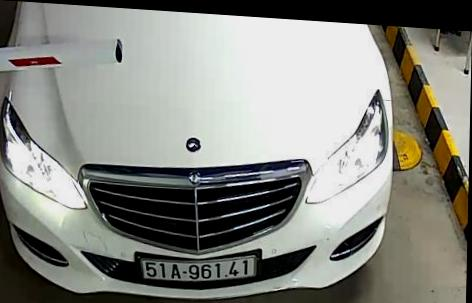License_Plate: (141, 245, 262, 291)
